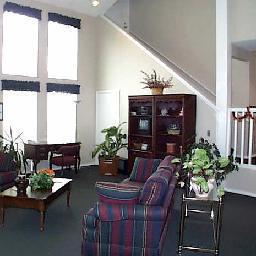Matera: (90, 122, 121, 173)
